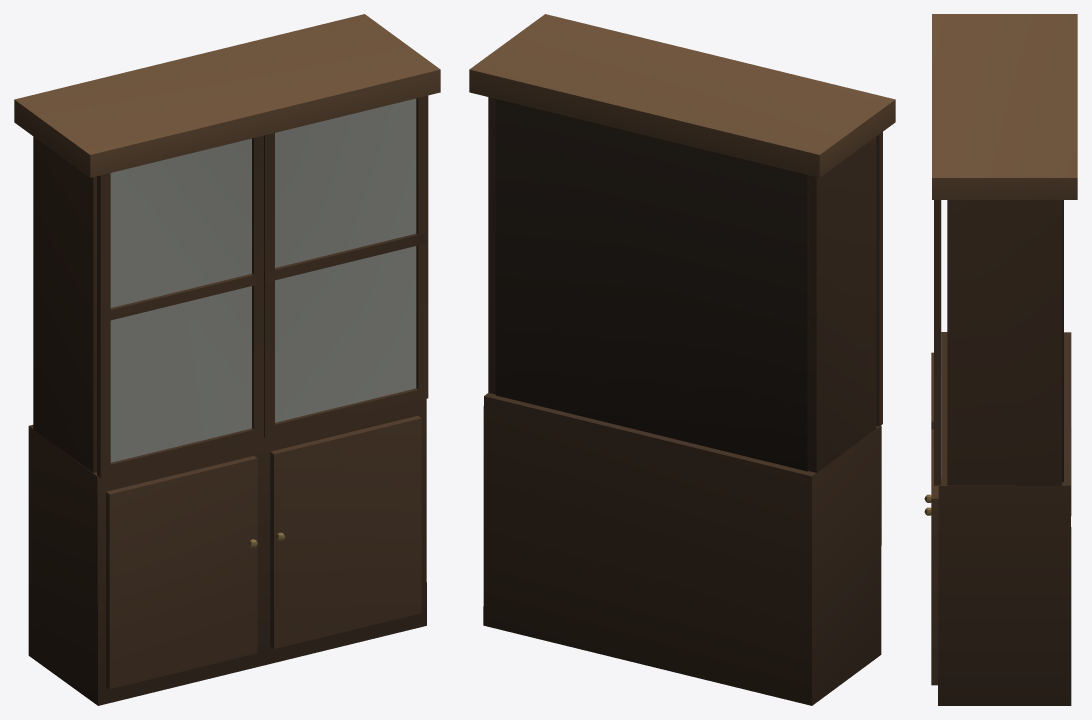
Rendered from ph_int_surgery_cabinet.glb.
3 renders of one model, left to right at view 1: azimuth 30°, elevation 25°; view 2: azimuth 150°, elevation 25°; view 3: azimuth 270°, elevation 25°, orthographic. The views are drawn at different scales.
Parts seen in each view (by area): view 1: ph_int_surgery_cabinet; view 2: ph_int_surgery_cabinet; view 3: ph_int_surgery_cabinet.
Boxes of the visible parts, x1,y1,x2,y2 form: ph_int_surgery_cabinet: (14,14,440,705); ph_int_surgery_cabinet: (469,14,895,705); ph_int_surgery_cabinet: (924,14,1077,705).
Bounding box in the file's own units: 1.28 × 1.94 × 0.505.
